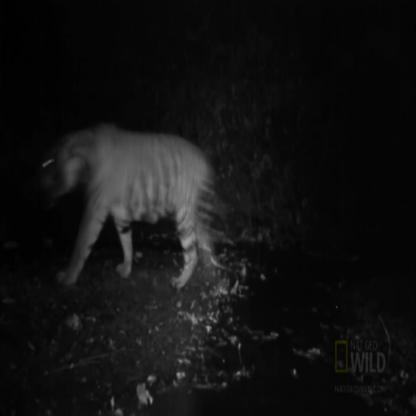Tiger: (47, 105, 217, 299)
